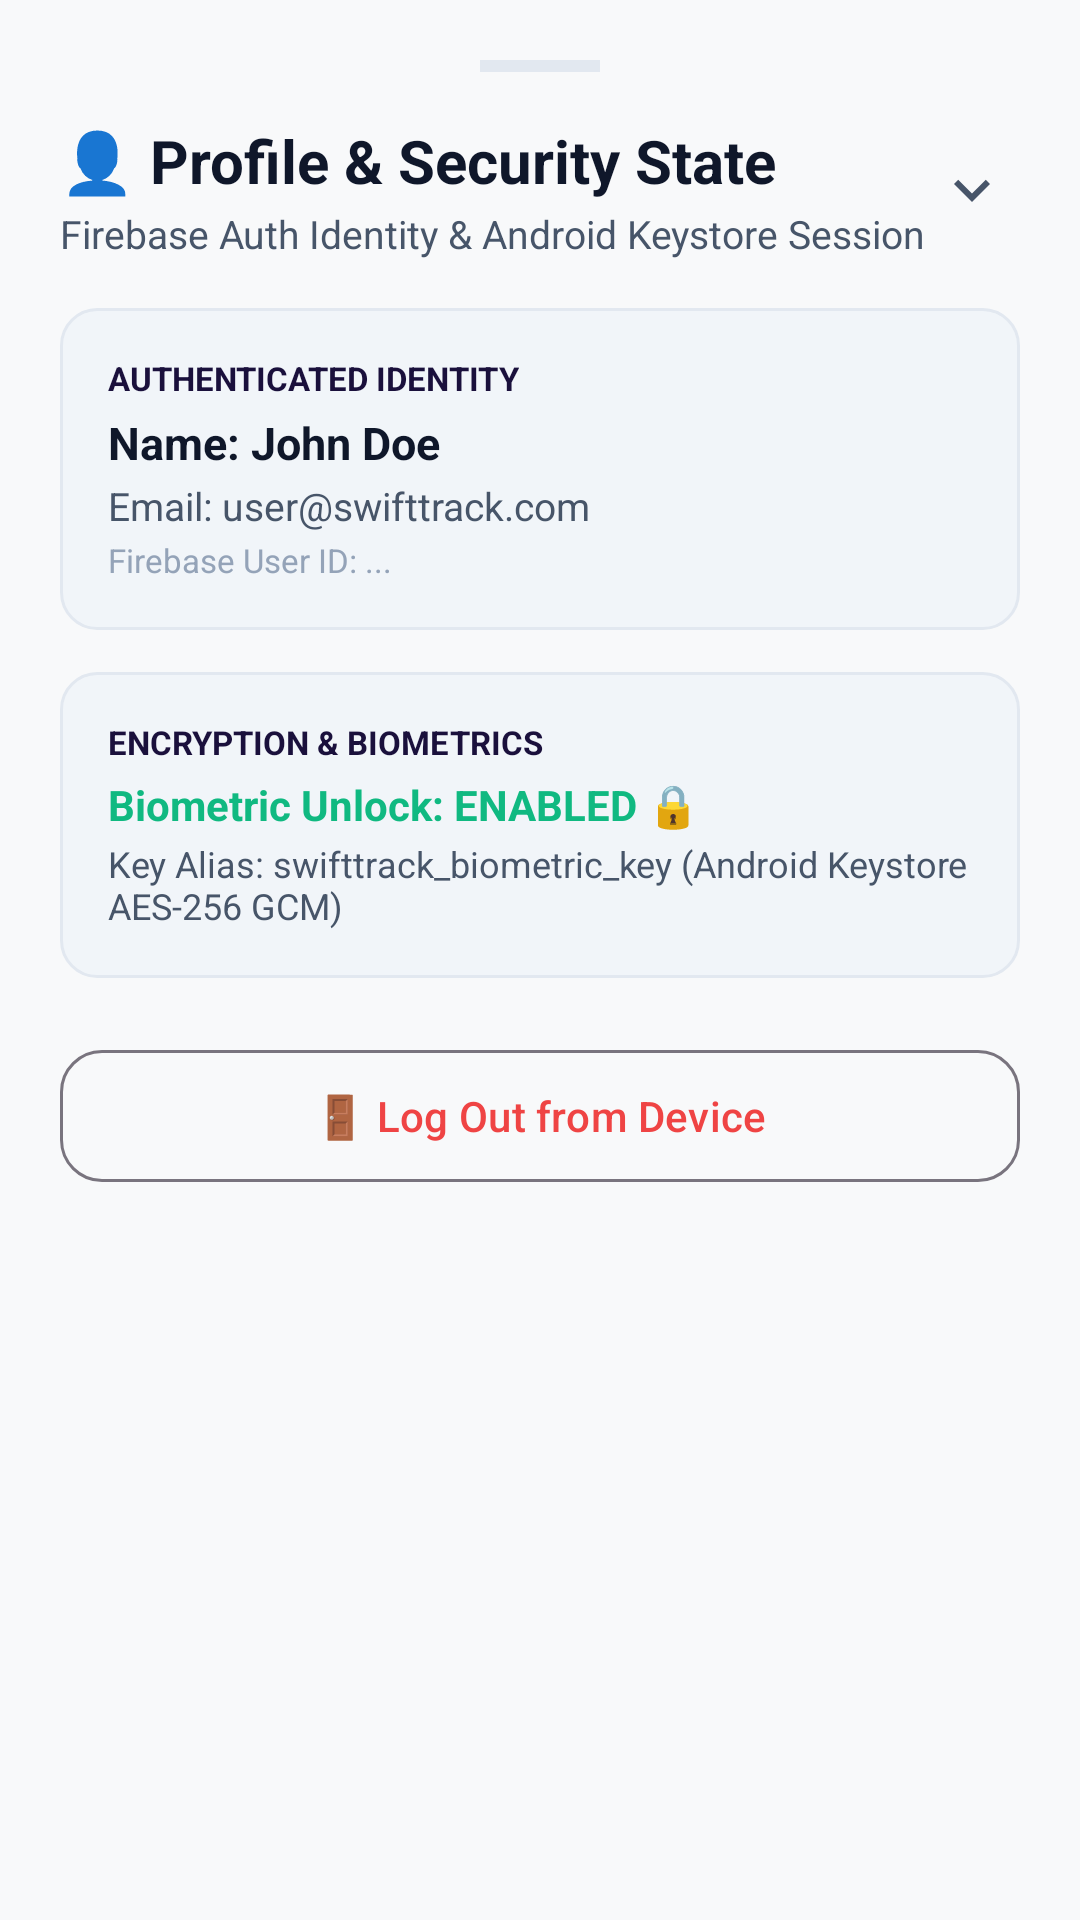

Where icons sit on this 1080px x 1920px app screen, as (x1, y1, x2, y2):
chevron down: (954, 180, 990, 202)
